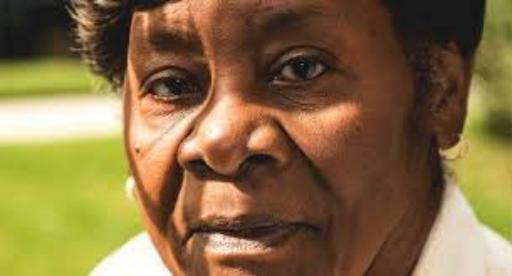left_eye: (271, 56, 337, 85)
left_lip_corner: (287, 212, 313, 242)
right_eye: (137, 70, 204, 106)
right_lip_corner: (177, 221, 208, 245)
